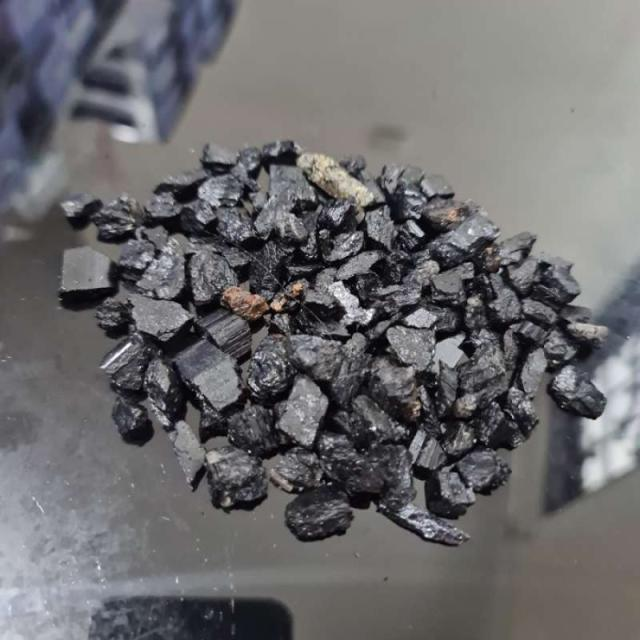Pecahan Agregat: (76, 101, 597, 582)
